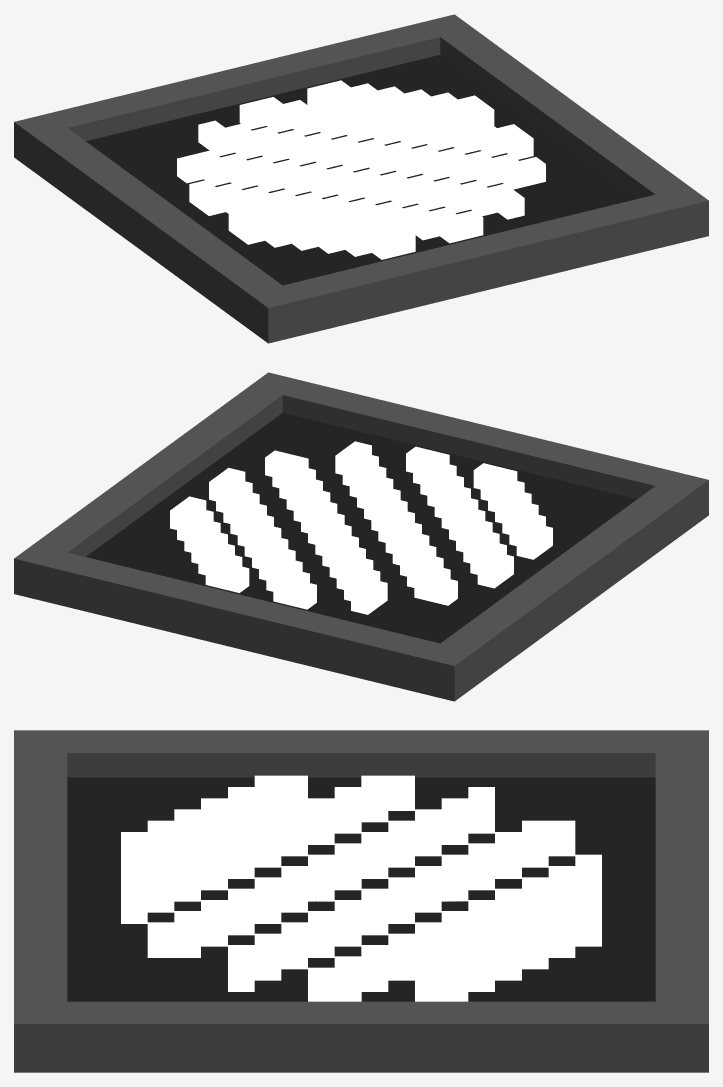
The model's file is trap_GRILL_WHITE.glb.
3 views of the same model, one above another, from view 1: azimuth 30°, elevation 25°; view 2: azimuth 150°, elevation 25°; view 3: azimuth 270°, elevation 25° (orthographic). The views are drawn at different scales.
Visible parts, largest first — view 1: item_TRAP_GRILL_WHITE; view 2: item_TRAP_GRILL_WHITE; view 3: item_TRAP_GRILL_WHITE.
Part boxes in pixels (left/top/right/bottom): item_TRAP_GRILL_WHITE: left=14, top=14, right=708, bottom=343; item_TRAP_GRILL_WHITE: left=14, top=372, right=708, bottom=701; item_TRAP_GRILL_WHITE: left=14, top=730, right=708, bottom=1072.
Bounding box in the file's own units: 0.5909 × 0.0455 × 0.5909.
1 material, 1 textured.
